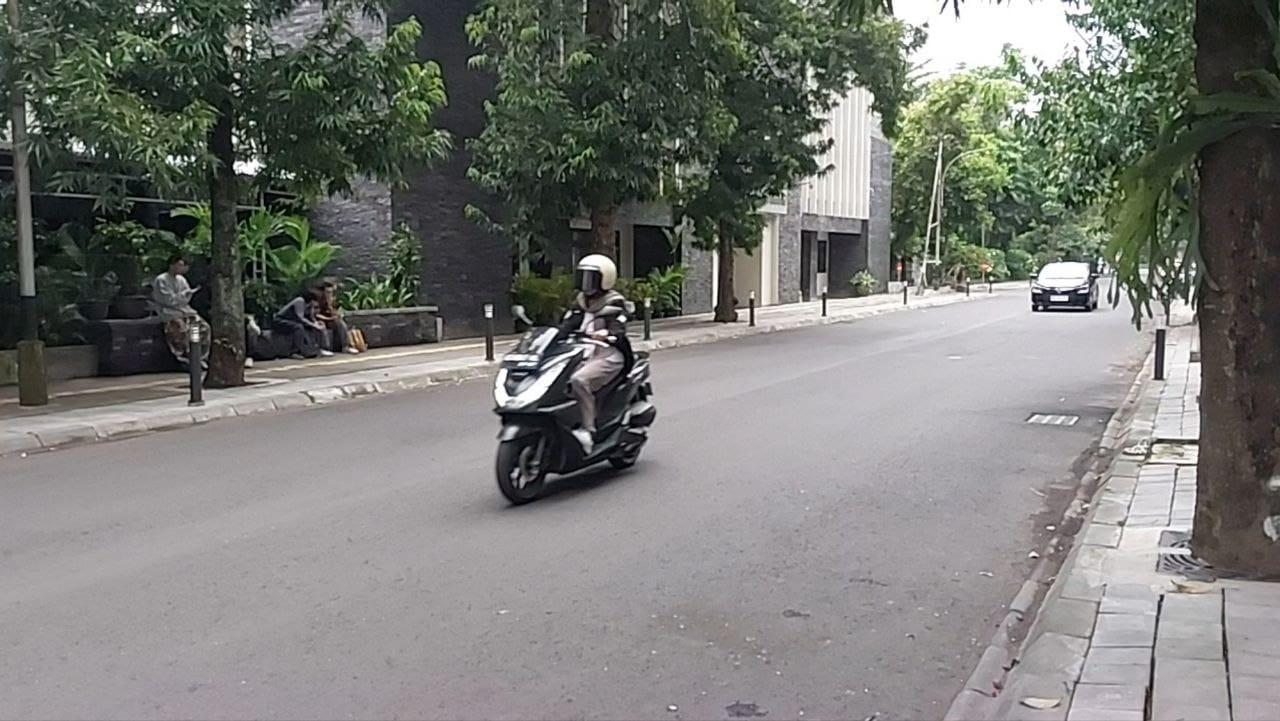helm: (572, 254, 619, 297)
riding: (492, 253, 659, 504)
